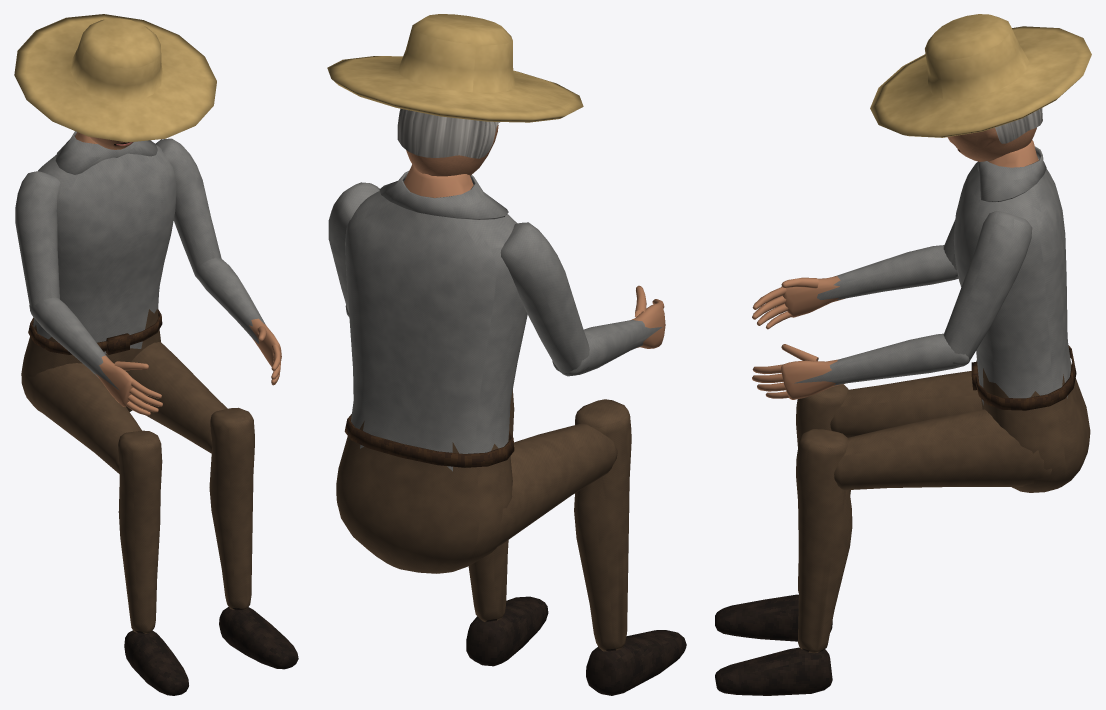
Rendered from persona_hombre_sentado_medio.obj.
The picture shows the model from 3 angles, left to right: view 1: azimuth 30°, elevation 25°; view 2: azimuth 150°, elevation 25°; view 3: azimuth 270°, elevation 25°; orthographic projection. The views are drawn at different scales.
Visible parts, largest first — view 1: persona_hombre_sentado; view 2: persona_hombre_sentado; view 3: persona_hombre_sentado.
Part boxes in pixels (bbox=[...]): persona_hombre_sentado: bbox=[14, 14, 298, 695]; persona_hombre_sentado: bbox=[327, 14, 686, 695]; persona_hombre_sentado: bbox=[715, 14, 1091, 695].
Bounding box in the file's own units: 0.4923 × 1.42 × 0.7546.
Materials: 13 (13 with a texture image).
